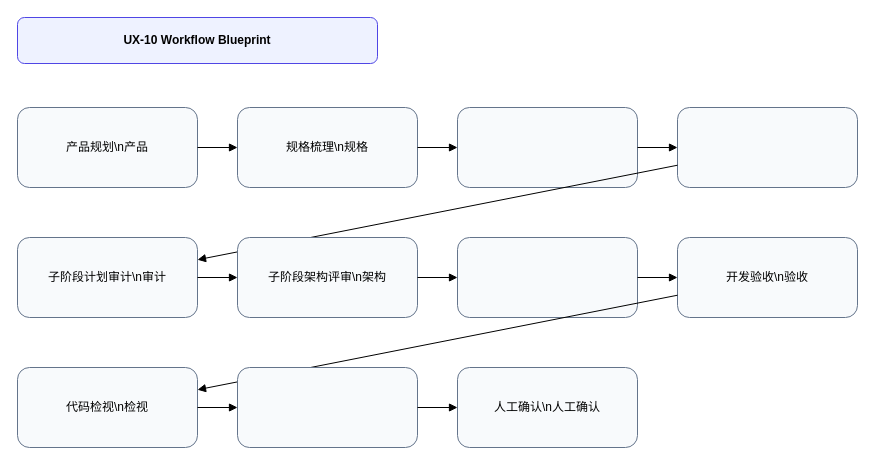
This 875x465 diagram has some shape labels left out. The centre of each missing label's shape, as x and y in pixels:
"开发实施\n实施" belongs at (547,277).
"总架构评审\n架构" belongs at (767,147).
"端到端验收\nE2E" belongs at (327,407).
"项目计划蓝图\n计划" belongs at (547,147).
